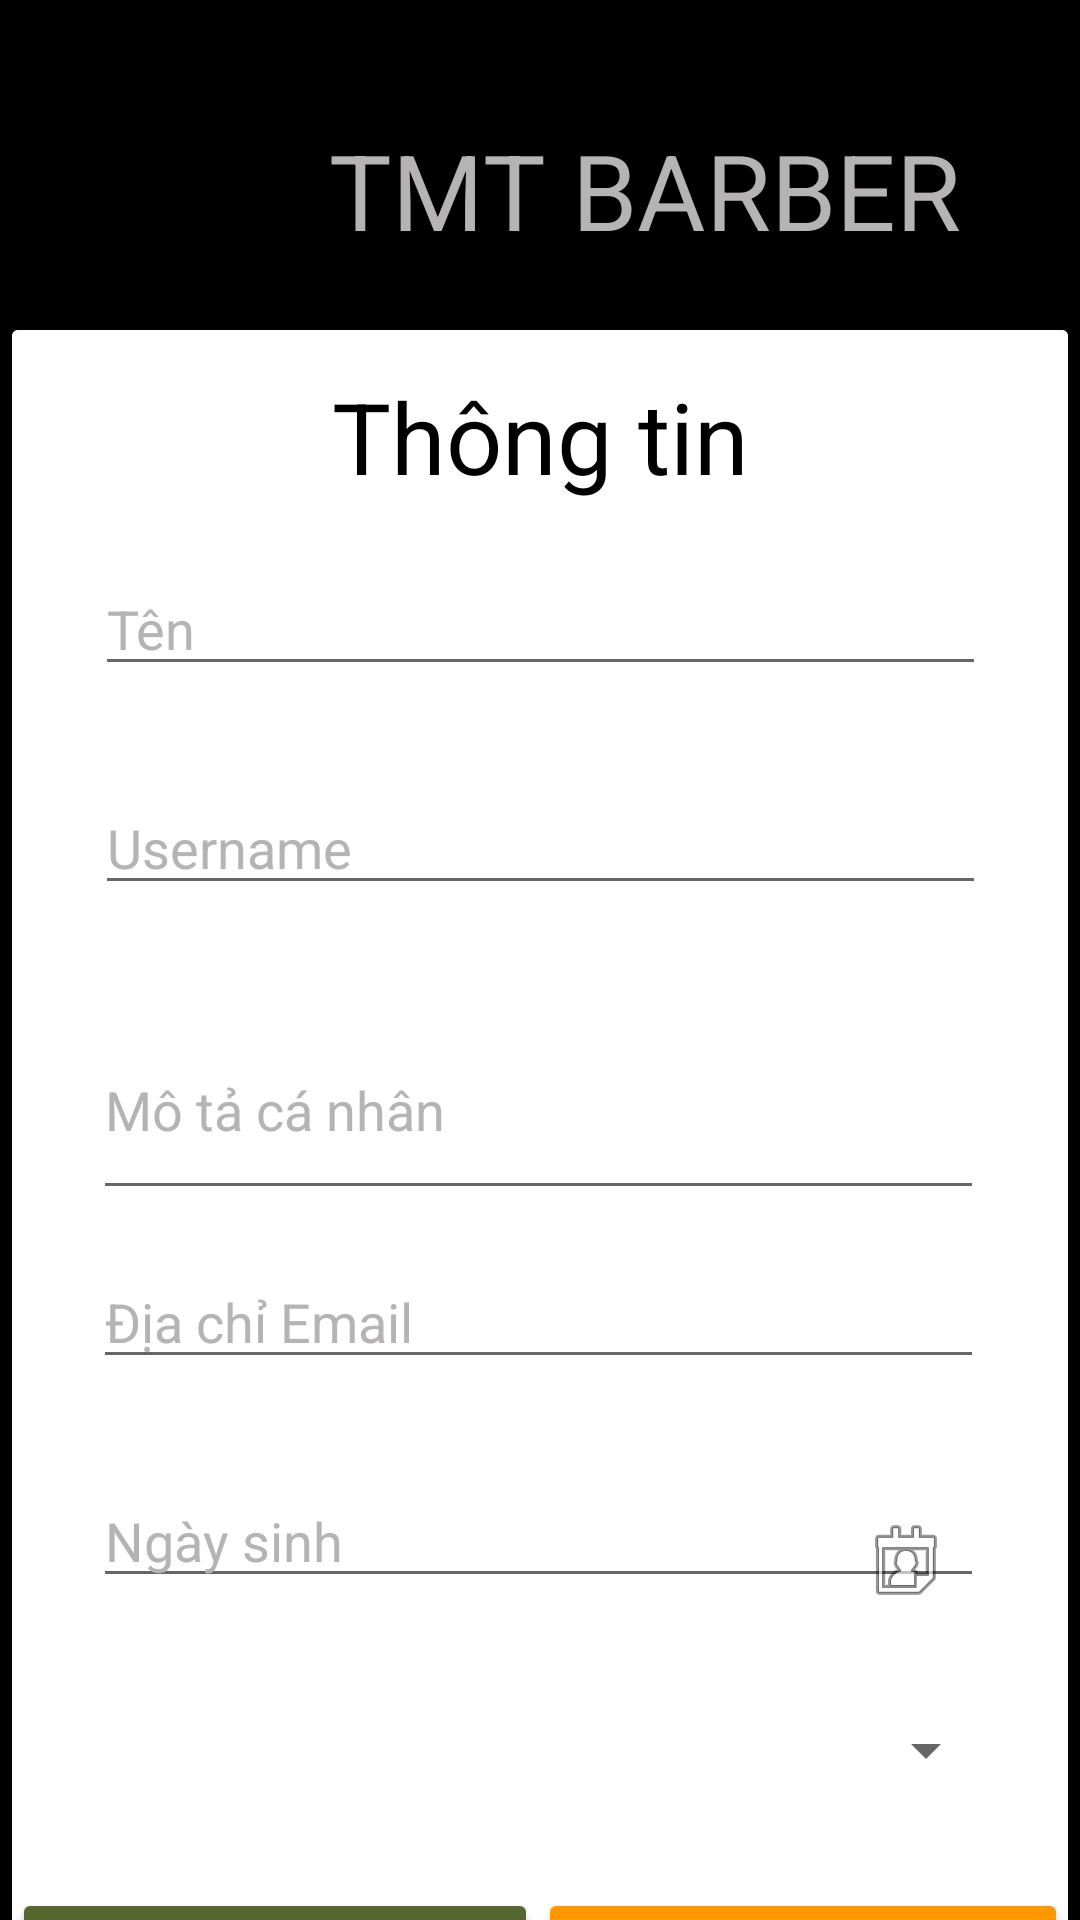

Named icons in this screenshot (1080 x 1920) and their bounding boxes, [x1,y1,x2,y2]:
calendar: [858,1525,954,1595]
